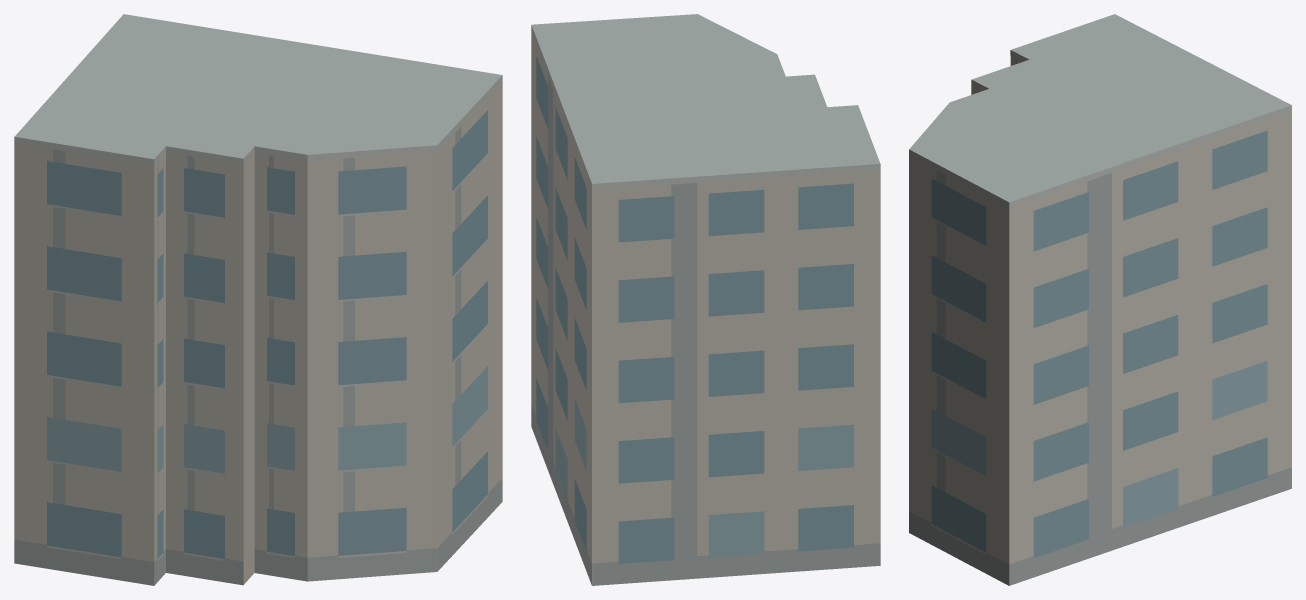
Rendered from survey-upis-32952524.glb.
3 views of the same model, side by side, from view 1: azimuth 30°, elevation 25°; view 2: azimuth 150°, elevation 25°; view 3: azimuth 270°, elevation 25° (orthographic). The views are drawn at different scales.
Visible parts, largest first — view 1: survey-upis-32952524.tmp; view 2: survey-upis-32952524.tmp; view 3: survey-upis-32952524.tmp.
Part boxes in pixels (left/top/right/bottom): survey-upis-32952524.tmp: left=14, top=14, right=502, bottom=585; survey-upis-32952524.tmp: left=531, top=14, right=880, bottom=585; survey-upis-32952524.tmp: left=909, top=14, right=1291, bottom=585.
Bounding box in the file's own units: 16.86 × 16 × 14.48.
